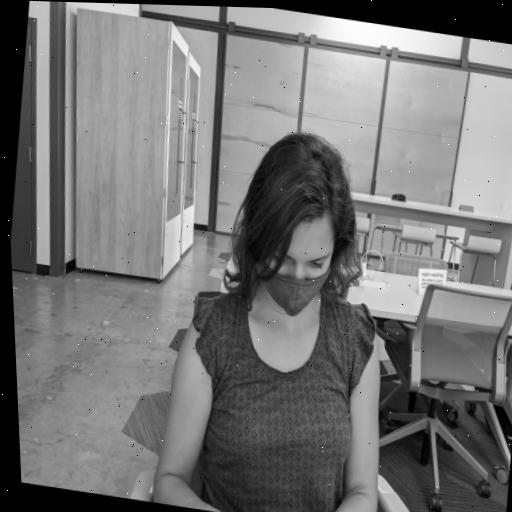mask: (239, 181, 350, 327)
